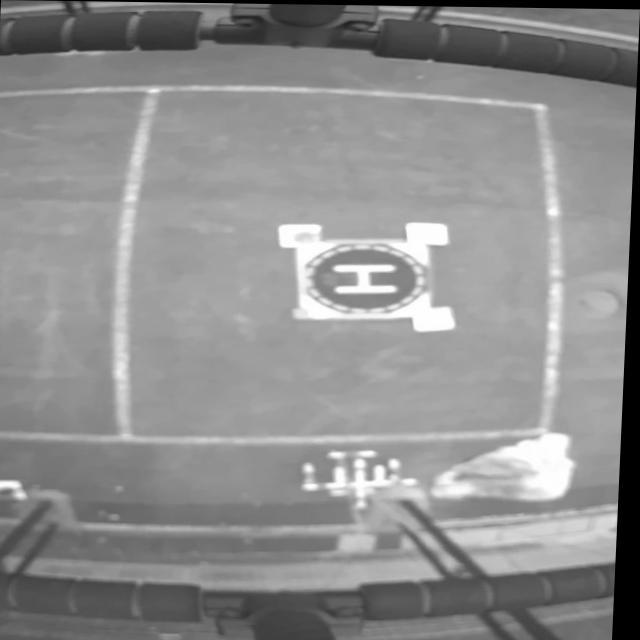Helipad: (335, 263, 398, 293)
